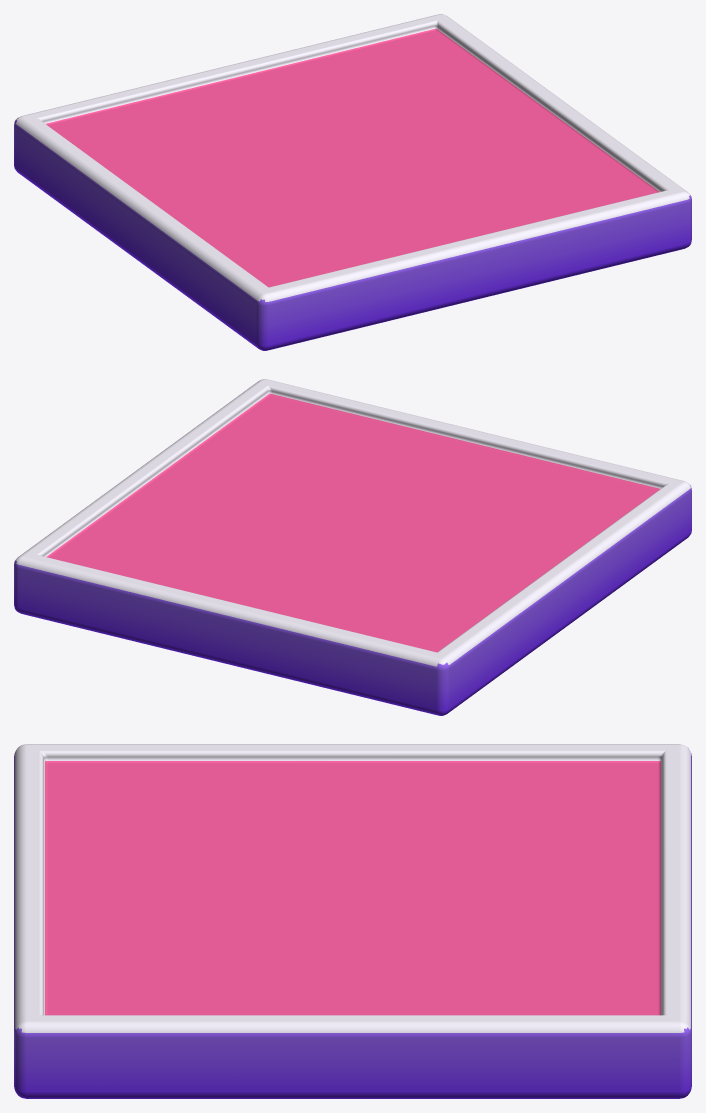
The model's file is platform_8x8.glb.
The picture shows the model from 3 angles, top to bottom: view 1: azimuth 30°, elevation 25°; view 2: azimuth 150°, elevation 25°; view 3: azimuth 270°, elevation 25°; orthographic projection. The views are drawn at different scales.
Visible parts, largest first — view 1: platform_8x8; view 2: platform_8x8; view 3: platform_8x8.
Boxes of the visible parts, x1,y1,x2,y2 form: platform_8x8: (14,14,691,350); platform_8x8: (14,379,691,715); platform_8x8: (14,744,691,1098).
Size of the model in its own units: 8 by 1 by 8.
Materials: 1 (1 with a texture image).
